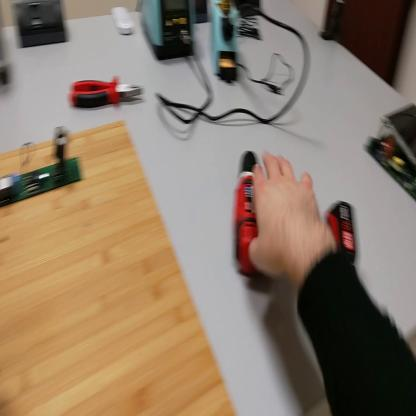electric screwdriver: (228, 151, 358, 275)
hand: (243, 152, 336, 283)
high voltage board: (2, 124, 82, 208)
low voltage board: (362, 101, 416, 211)
oscilloscope: (1, 8, 10, 90)
pliers: (70, 69, 146, 114)
socket: (237, 1, 261, 24), (194, 4, 213, 26)
welder base: (210, 5, 240, 84)
welder probe tip: (227, 6, 255, 35)
welder station: (141, 2, 197, 61)
working area: (2, 124, 235, 415)
